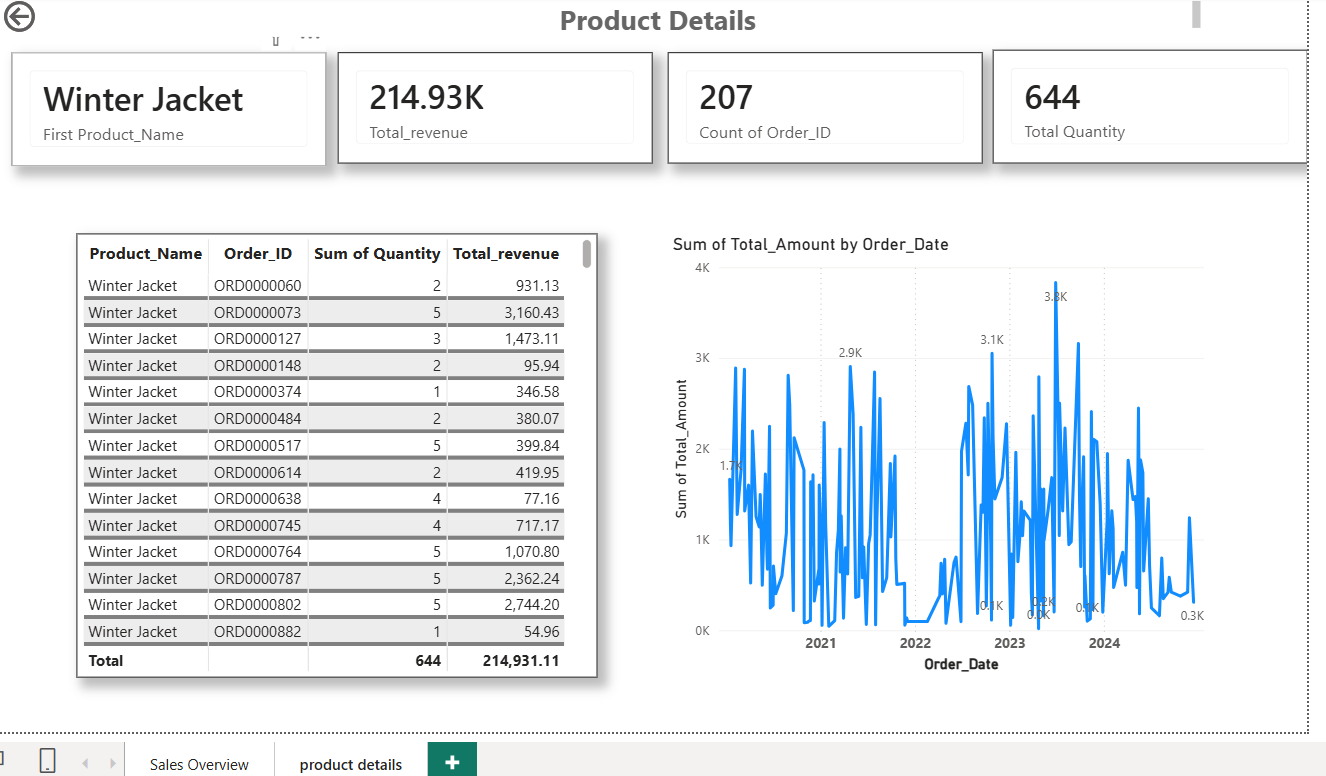

The page's visual inventory and layout, read from the dashboard file:
{"tool":"powerbi","page":{"name":"product details","canvas":[1280,720],"ordinal":1},"visuals":[{"type":"actionButton","box":[0,0,100,40],"z":0},{"type":"actionButton","box":[0,0,100,40],"z":1000},{"type":"cardVisual","fields":{"Data":["Min(amazon clean csv_.Product_Name)"]},"box":[12.2,55,308.2,111.3],"z":2000},{"type":"cardVisual","fields":{"Data":["calculations (3).Total_revenue"]},"box":[331.4,55,308.2,108.8],"z":3000},{"type":"cardVisual","fields":{"Data":["CountNonNull(amazon clean csv_.Order_ID)"]},"box":[654.2,55,308.2,108.8],"z":4000},{"type":"cardVisual","fields":{"Data":["calculations (3).Total Quantity"]},"box":[972.2,52.6,308.2,111.3],"z":5000},{"type":"tableEx","fields":{"Values":["amazon clean csv_.Product_Name","amazon clean csv_.Order_ID","Sum(amazon clean csv_.Quantity)","calculations (3).Total_revenue"]},"box":[75.8,232.3,509.9,434.1],"z":6000},{"type":"lineChart","fields":{"Category":["amazon clean csv_.Order_Date"],"Y":["Sum(amazon clean csv_.Total_Amount)"]},"box":[654.2,232.3,535.6,434.1],"z":7000},{"type":"textbox","box":[116.2,0,1063.9,40.4],"z":7001}]}

Visuals, with their boxes on the page's 1280x720 design canvas (x1, y1, x2, y2). These are canvas units, not pixel positions in the 1326x776 screenshot, which may show the page scaled, cropped or inside an application window:
actionButton: (0, 0, 100, 40)
actionButton: (0, 0, 100, 40)
cardVisual - Min(amazon clean csv_.Product_Name): (12, 55, 320, 166)
cardVisual - calculations (3).Total_revenue: (331, 55, 640, 164)
cardVisual - CountNonNull(amazon clean csv_.Order_ID): (654, 55, 962, 164)
cardVisual - calculations (3).Total Quantity: (972, 53, 1280, 164)
tableEx - amazon clean csv_.Product_Name x amazon clean csv_.Order_ID: (76, 232, 586, 666)
lineChart - amazon clean csv_.Order_Date x Sum(amazon clean csv_.Total_Amount): (654, 232, 1190, 666)
textbox: (116, 0, 1180, 40)
